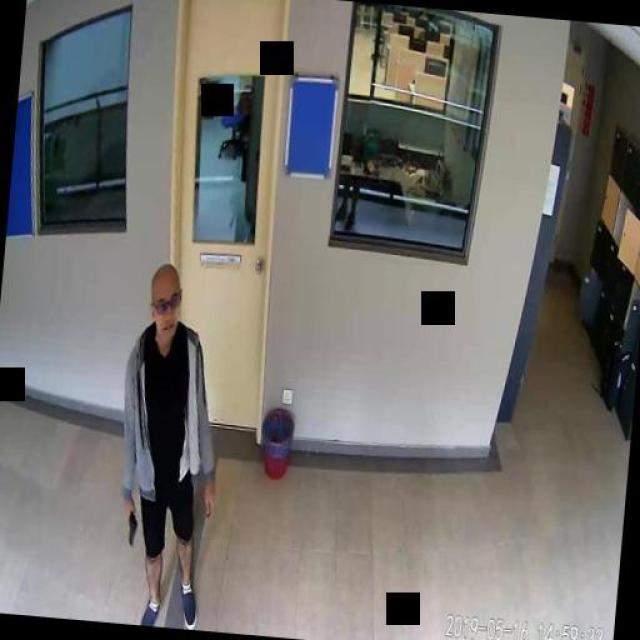gun: (124, 502, 138, 544)
